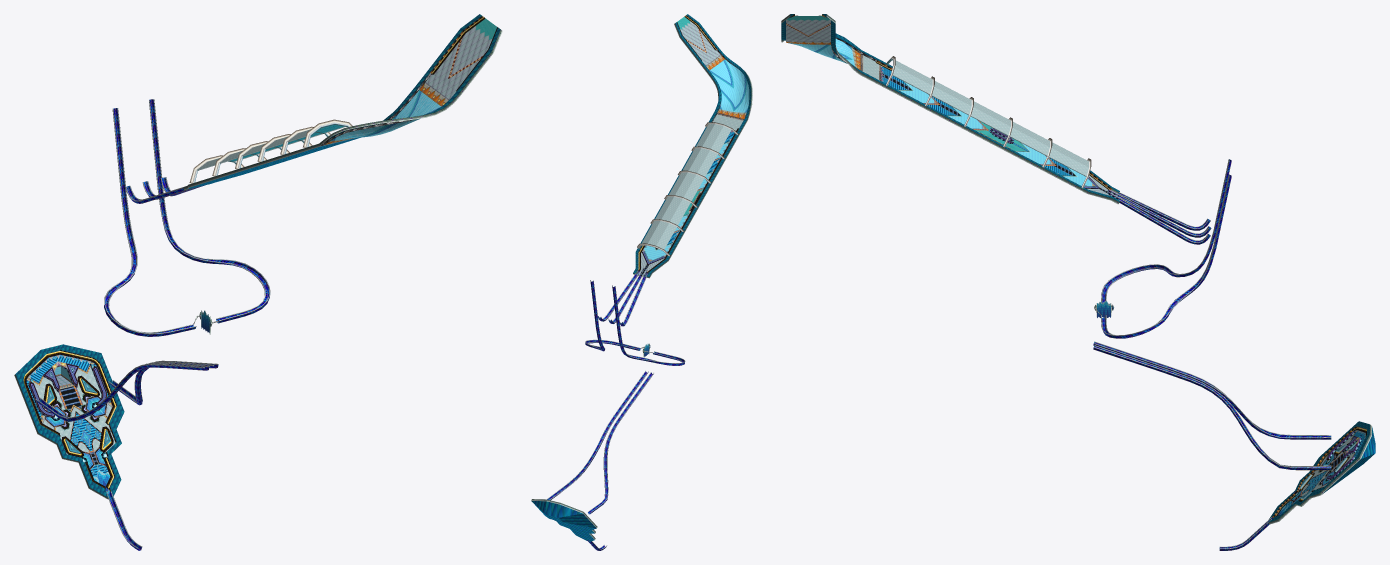
File: Bingo_highway_12.obj
3 renders of one model, left to right at view 1: azimuth 30°, elevation 25°; view 2: azimuth 150°, elevation 25°; view 3: azimuth 270°, elevation 25°, orthographic. The views are drawn at different scales.
Parts seen in each view (by area): view 1: obj2, obj1, Object_2; view 2: obj2, obj1, Object_2; view 3: obj2, obj1, Object_2.
Boxes of the visible parts, <box> form: obj2: <box>14,14,502,548</box>; obj1: <box>36,99,269,550</box>; Object_2: <box>23,17,497,491</box>; obj2: <box>531,14,752,549</box>; obj1: <box>547,274,684,550</box>; Object_2: <box>637,15,738,272</box>; obj2: <box>781,14,1375,549</box>; obj1: <box>1093,159,1331,550</box>; Object_2: <box>795,15,1366,516</box>.
Size of the model in its own units: 851 by 2853 by 2631.
